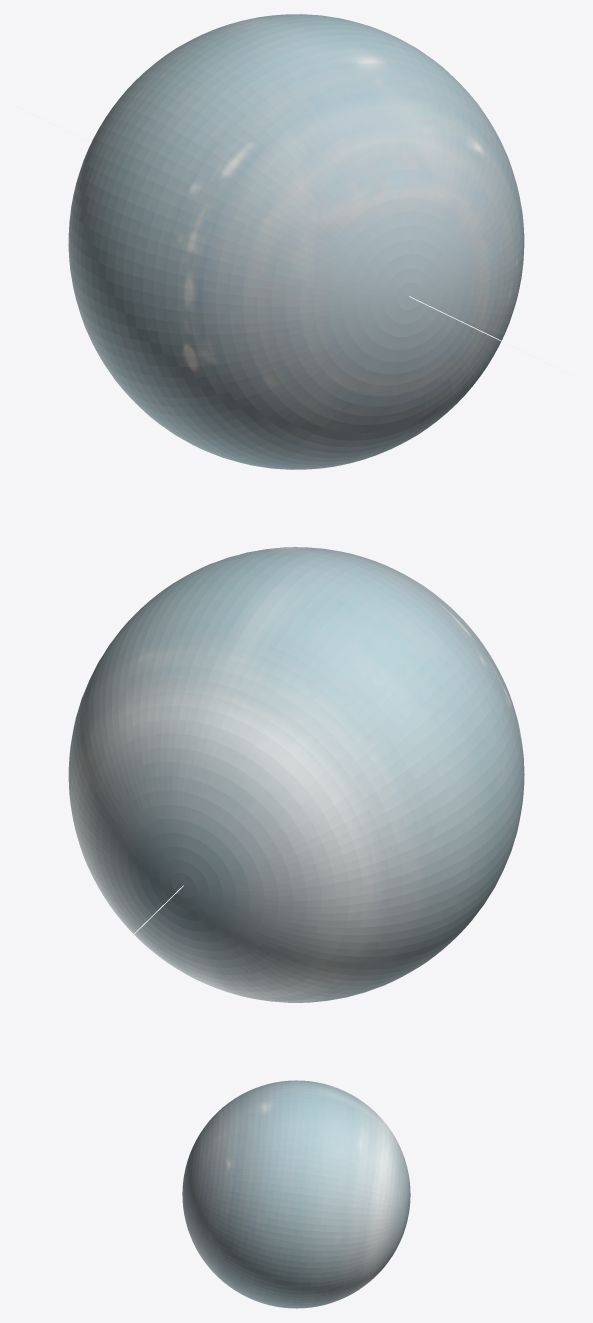
Rendered from uranus.glb.
The picture shows the model from 3 angles, top to bottom: view 1: azimuth 30°, elevation 25°; view 2: azimuth 150°, elevation 25°; view 3: azimuth 270°, elevation 25°; orthographic projection. The views are drawn at different scales.
Visible parts, largest first — view 1: Sphere; view 2: Sphere; view 3: Sphere, Axis_Rod.
Part boxes in pixels (x1=…): Sphere: x1=68, y1=14, x2=524, y2=469; Sphere: x1=68, y1=547, x2=524, y2=1002; Sphere: x1=182, y1=1080, x2=410, y2=1308; Axis_Rod: x1=14, y1=1159, x2=578, y2=1229.
Size of the model in its own units: 2 by 2 by 4.95.
2 materials, 1 textured.
